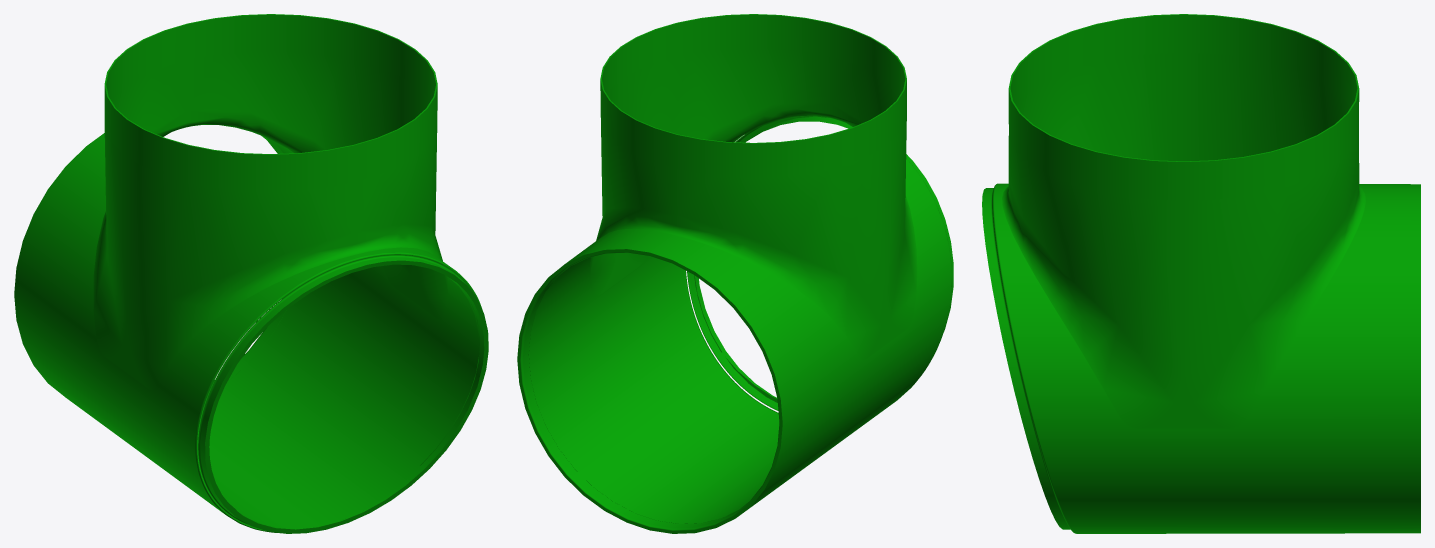
File: ur3e_scaled_11.obj
3 renders of one model, left to right at view 1: azimuth 30°, elevation 25°; view 2: azimuth 150°, elevation 25°; view 3: azimuth 270°, elevation 25°, orthographic. The views are drawn at different scales.
Bounding box in the file's own units: 0.063 × 0.0852 × 0.0789.
